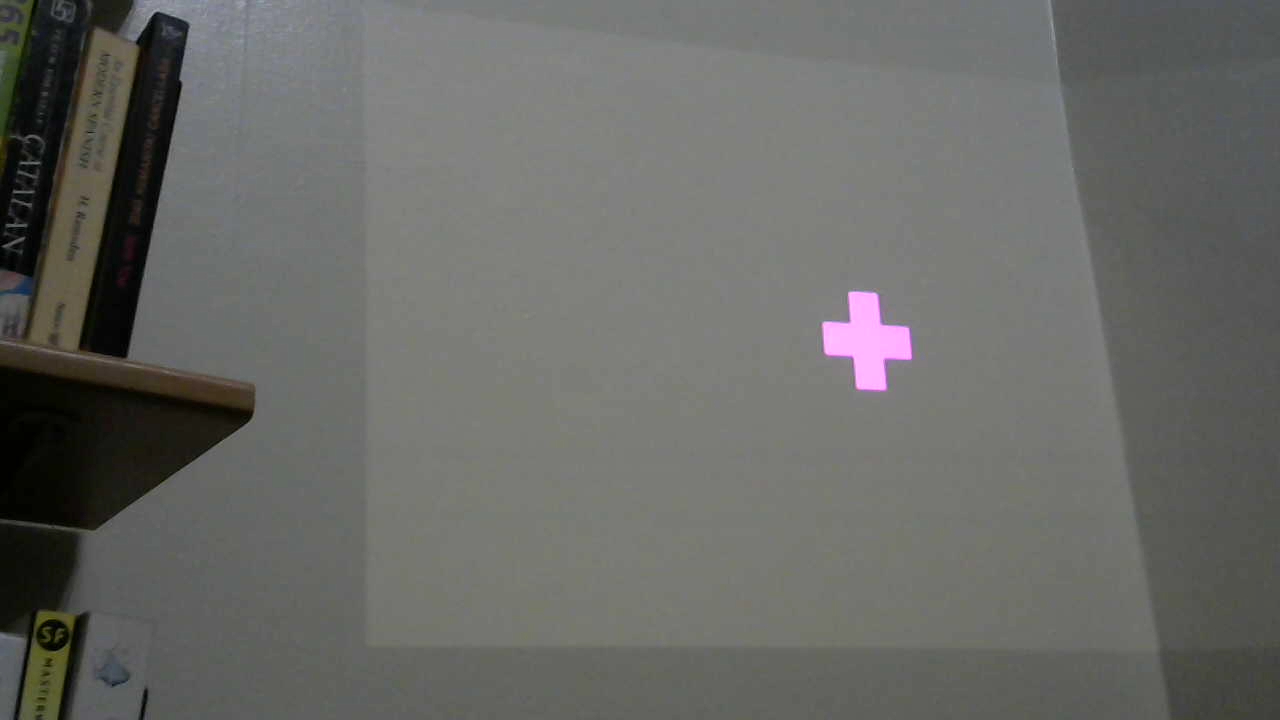calibration_symbol: (821, 289, 913, 393)
